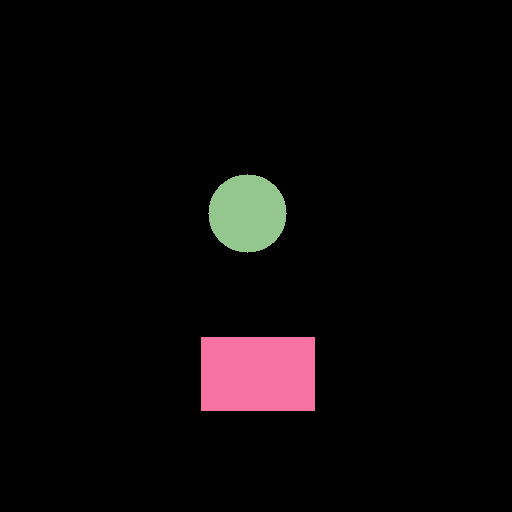circle: (208, 174, 286, 252)
rectangle: (201, 337, 314, 410)
